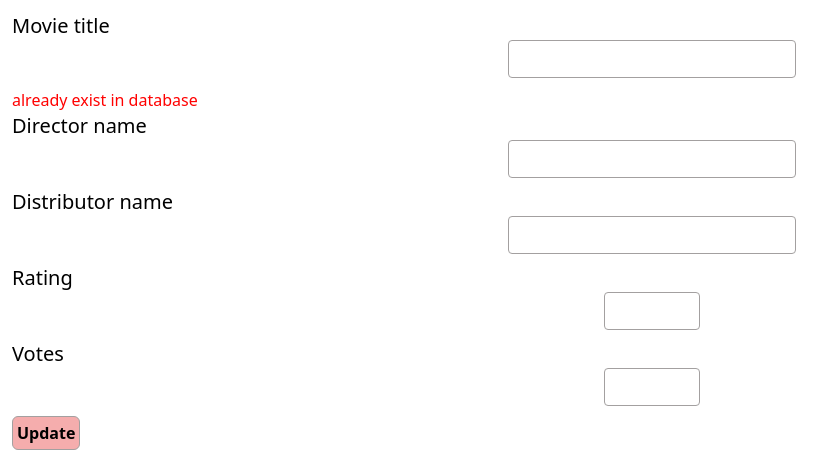
Test: Test Edit Movie Form Component › validation length movie title name should fail
Type "zzzzzzzzzzzzzzzzzzzzzzzzzzzzzzzzzzzzzz" into the field with test id "movieTitle" at [652, 59], box [508,40,796,78]
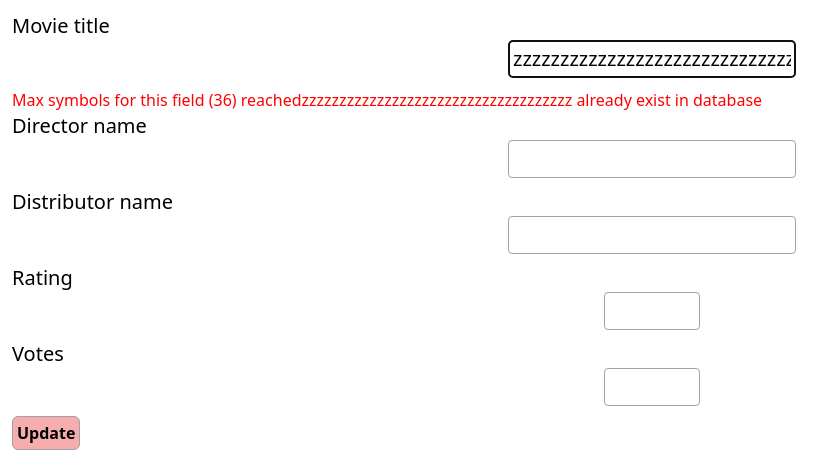
Expected: the text with test id "movieTitleError" shows "Max symbols for this field (36) reached", [12,89,302,111]
